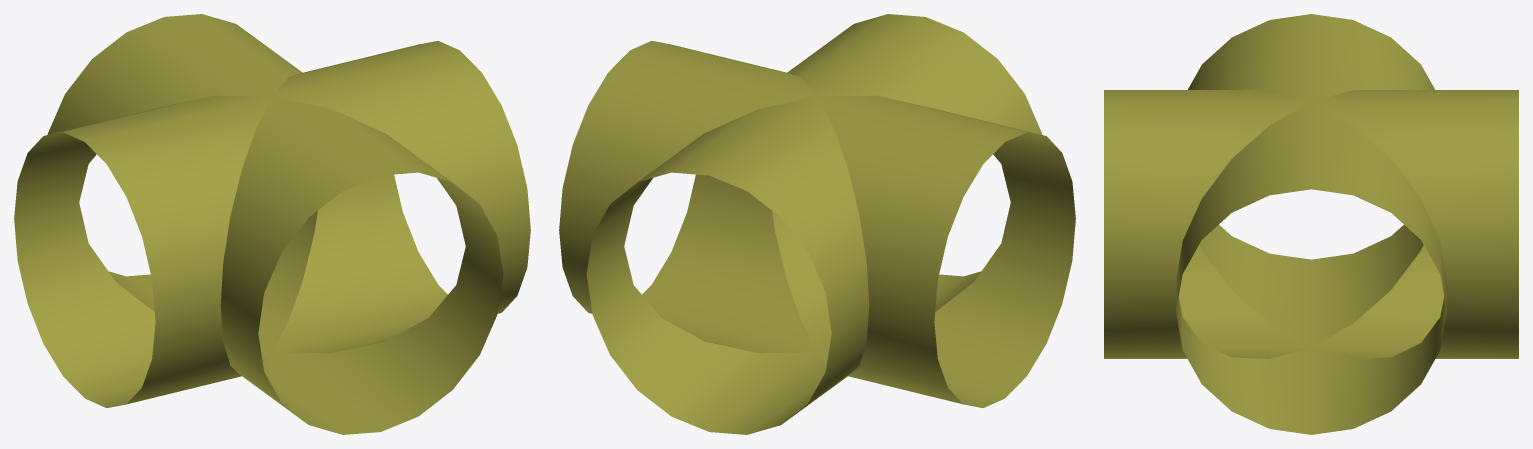
File: SM_Pipes_Cross.fbx
The picture shows the model from 3 angles, left to right: view 1: azimuth 30°, elevation 25°; view 2: azimuth 150°, elevation 25°; view 3: azimuth 270°, elevation 25°; orthographic projection. The views are drawn at different scales.
Visible parts, largest first — view 1: SM_Pipes_Cross; view 2: SM_Pipes_Cross; view 3: SM_Pipes_Cross.
Boxes of the visible parts, x1,y1,x2,y2 form: SM_Pipes_Cross: [14, 14, 530, 434]; SM_Pipes_Cross: [559, 14, 1075, 434]; SM_Pipes_Cross: [1104, 14, 1518, 434].
Bounding box in the file's own units: 500 × 327 × 500.
